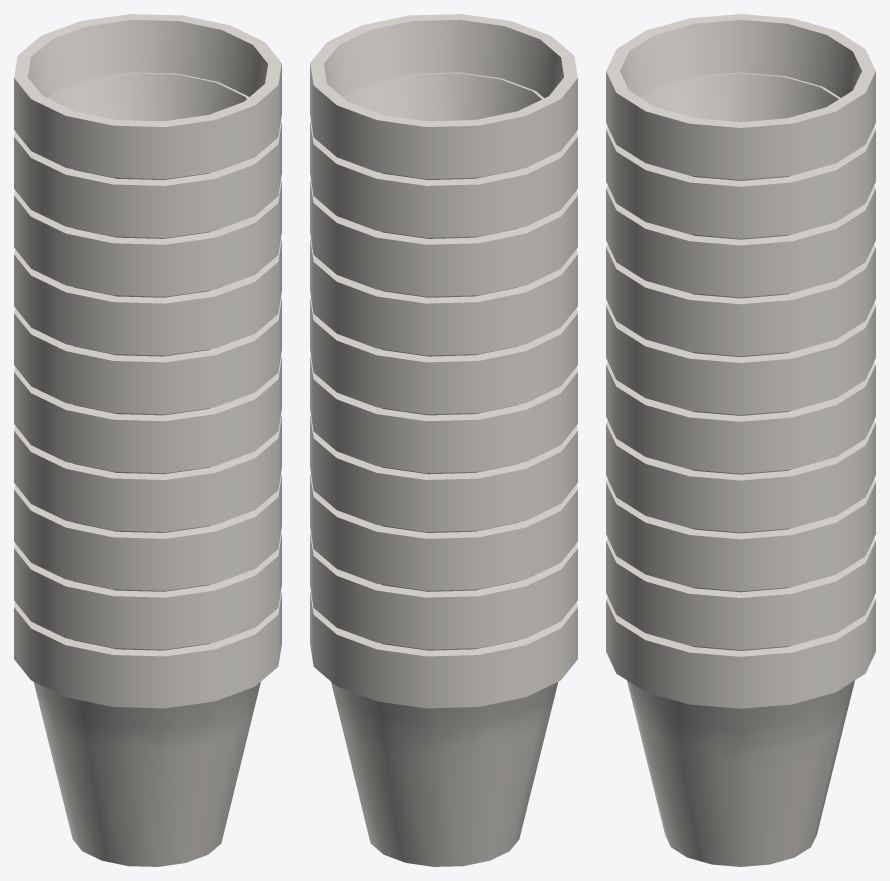
The model's file is 10 copos up.fbx.
The picture shows the model from 3 angles, left to right: view 1: azimuth 30°, elevation 25°; view 2: azimuth 150°, elevation 25°; view 3: azimuth 270°, elevation 25°; orthographic projection.
Parts seen in each view (by area): view 1: copinhos 10baixo.001; view 2: copinhos 10baixo.001; view 3: copinhos 10baixo.001.
Part boxes in pixels (box(x1,y1,x2,y2)): copinhos 10baixo.001: box(14, 14, 281, 866); copinhos 10baixo.001: box(310, 14, 577, 866); copinhos 10baixo.001: box(606, 14, 875, 866).
Size of the model in its own units: 66.84 by 209 by 66.84.
